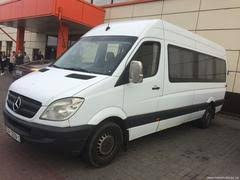van: (5, 19, 227, 167)
